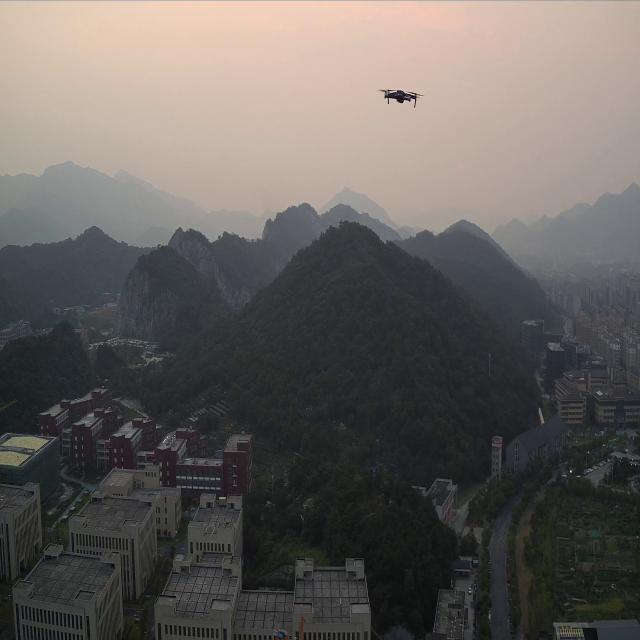UAV: (381, 77, 420, 110)
